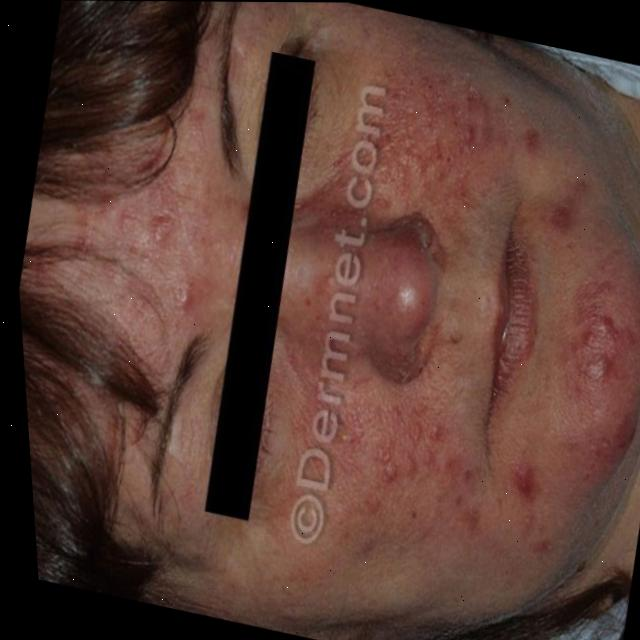Rosacea: (286, 39, 621, 277), (271, 395, 590, 630), (49, 149, 227, 349), (515, 235, 640, 502)
